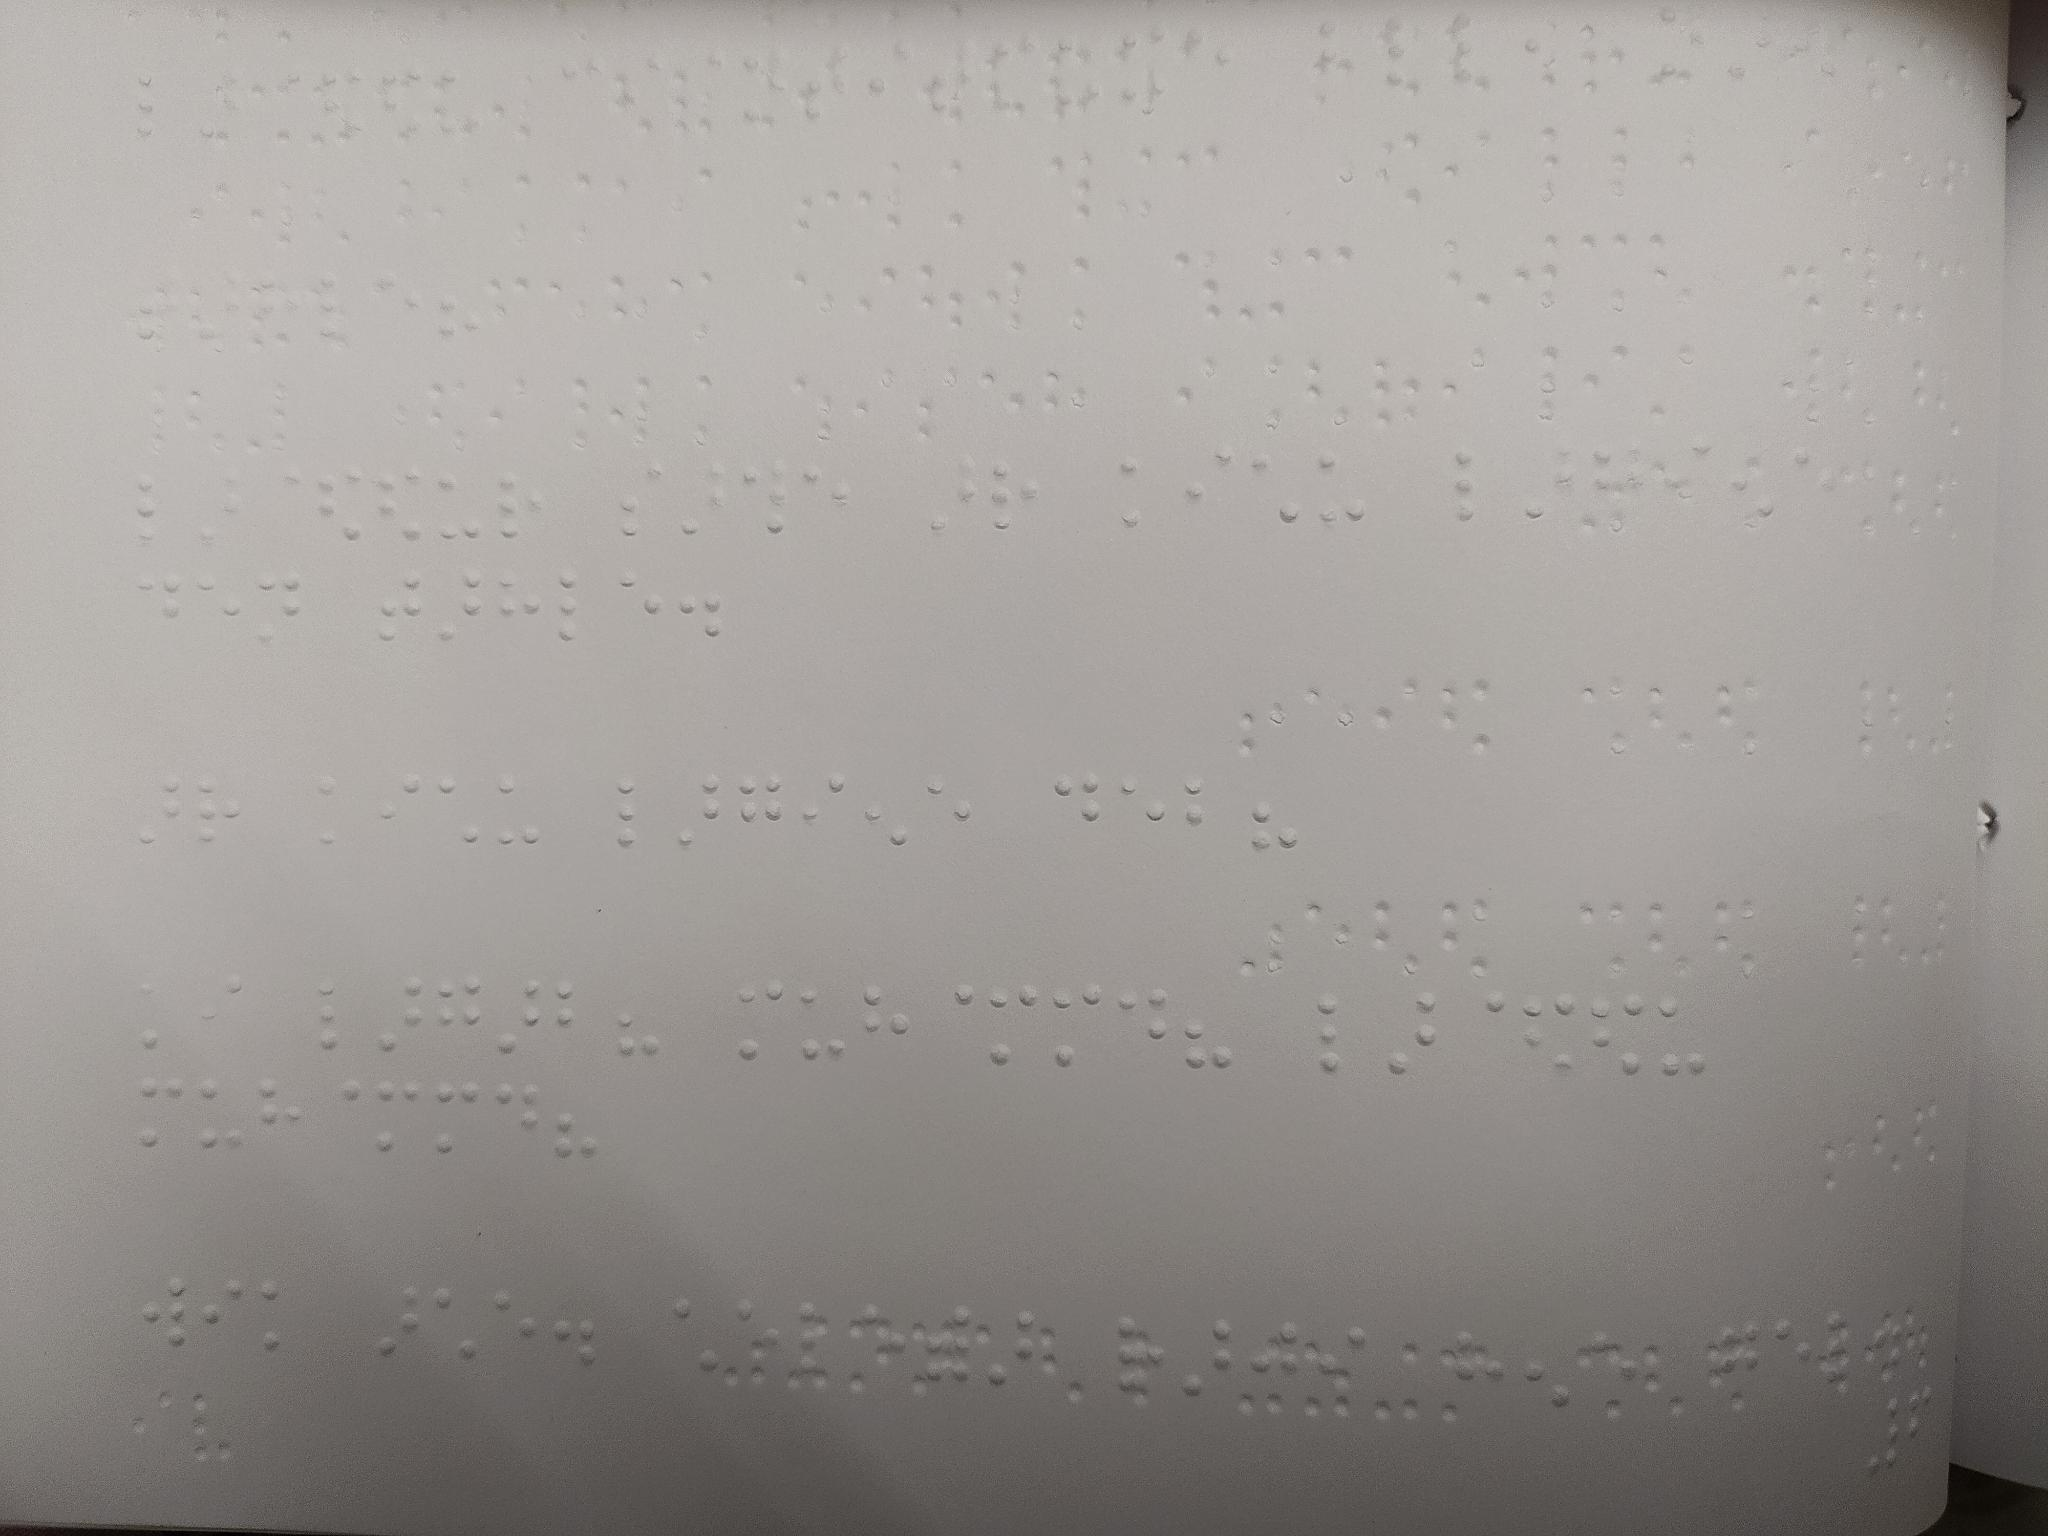a: (1384, 983, 1451, 1087), (919, 449, 982, 545), (373, 1279, 431, 1373), (197, 260, 248, 363), (1184, 1307, 1235, 1410), (432, 558, 492, 647), (1516, 440, 1579, 524), (490, 971, 545, 1066), (992, 1292, 1043, 1392), (132, 768, 190, 854), (369, 976, 427, 1060), (1724, 0, 1779, 89), (676, 766, 735, 847), (676, 461, 734, 544), (197, 468, 253, 544), (197, 66, 247, 152)
b: (1176, 776, 1238, 850), (548, 978, 601, 1062), (1309, 18, 1369, 90)
ch: (552, 47, 614, 132)
chh: (1245, 440, 1311, 532), (666, 1291, 731, 1381), (434, 768, 495, 857), (427, 1283, 487, 1368)
d: (1522, 984, 1587, 1084), (302, 463, 374, 545), (1045, 773, 1114, 857), (1588, 992, 1653, 1081), (366, 466, 427, 557), (377, 61, 434, 157), (1114, 981, 1174, 1065), (314, 65, 371, 152), (140, 565, 195, 634), (548, 1163, 552, 1165)
e: (842, 1294, 911, 1397), (1579, 1320, 1646, 1417), (732, 1296, 798, 1384), (605, 560, 669, 650), (1174, 23, 1240, 108), (921, 773, 987, 858), (189, 563, 250, 650), (1785, 437, 1848, 520), (1116, 773, 1172, 860), (800, 458, 856, 544), (371, 265, 429, 342), (1772, 1313, 1824, 1399), (489, 1288, 539, 1362)
g: (431, 966, 495, 1068), (1588, 439, 1656, 532), (1703, 1317, 1766, 1409), (734, 771, 793, 852)
h: (856, 978, 924, 1068), (492, 558, 553, 645), (1451, 1328, 1506, 1409), (255, 1076, 311, 1152), (253, 266, 300, 347)
i: (1174, 437, 1240, 528), (1656, 437, 1721, 528), (1311, 1315, 1372, 1407), (189, 970, 255, 1049), (863, 21, 914, 119), (793, 763, 850, 849), (611, 48, 666, 136), (376, 768, 426, 847), (205, 1275, 248, 1347)
j: (1250, 1315, 1306, 1399)
k: (314, 768, 377, 854), (1111, 455, 1172, 528), (134, 978, 192, 1052), (255, 1279, 306, 1360)
kh: (1111, 23, 1169, 121)
l: (1306, 986, 1379, 1086), (308, 265, 371, 355), (303, 976, 369, 1062), (613, 773, 674, 857), (1819, 1310, 1874, 1404), (131, 473, 195, 552), (129, 63, 192, 140), (1447, 444, 1509, 520), (1447, 11, 1503, 94), (795, 1296, 845, 1386), (552, 565, 600, 652), (1379, 15, 1434, 87)
m: (727, 976, 793, 1078), (984, 983, 1050, 1065), (987, 31, 1042, 127), (1045, 984, 1105, 1065), (431, 1083, 490, 1162), (493, 1079, 548, 1165), (137, 1073, 194, 1154), (369, 1078, 423, 1155)
n: (671, 37, 729, 132), (1650, 5, 1719, 79), (252, 570, 311, 649)
r: (1106, 1307, 1176, 1399), (194, 770, 256, 858), (985, 460, 1050, 537), (493, 466, 548, 544)
s: (616, 458, 672, 549)
t: (732, 23, 798, 129), (916, 1296, 987, 1394), (792, 32, 861, 124), (124, 266, 197, 349), (376, 563, 432, 657), (922, 32, 979, 124)
th: (135, 1271, 202, 1362), (742, 461, 795, 549)
u: (1650, 991, 1717, 1083), (1042, 24, 1100, 116), (797, 979, 850, 1073), (189, 1078, 250, 1155), (489, 774, 547, 852), (431, 470, 487, 547), (1317, 449, 1372, 526), (434, 60, 481, 140)
y: (1511, 1326, 1580, 1425), (1722, 437, 1787, 534), (853, 771, 921, 857)
